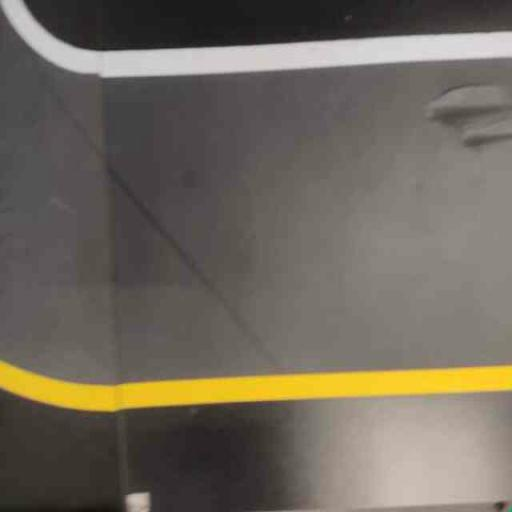straight: (117, 17, 512, 435)
